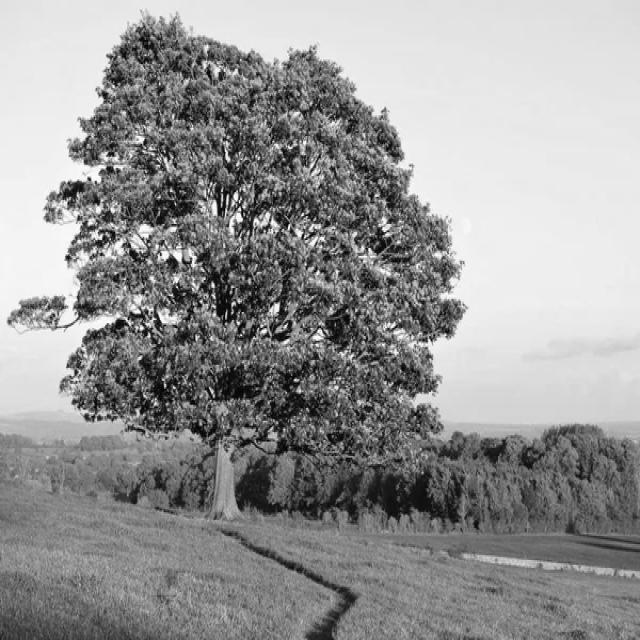Tree: (8, 14, 465, 521)
